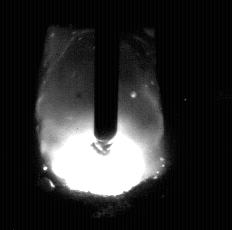arame: (95, 0, 119, 155)
poca: (37, 0, 164, 230)
